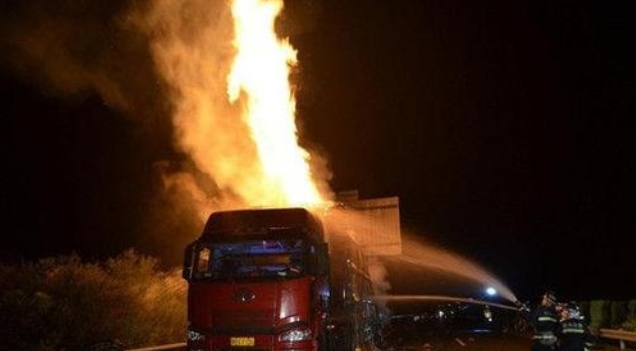喷灌水雾: (312, 200, 516, 305)
